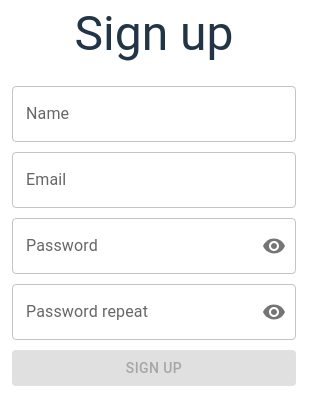
Test: Sign up page › Interactions › Displays spinner while API request in progress
The width and height of the screenshot is (332, 406).
In the field labelled "Name": (154, 114) [12,86,296,142], type "username"
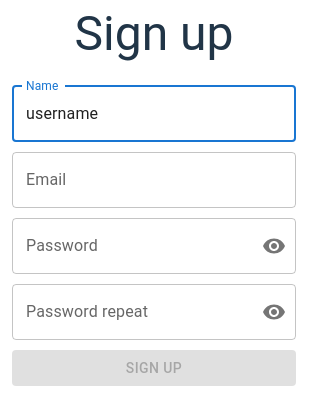
In the field labelled "Email": (154, 180) [12,152,296,208], type "test@email.com"
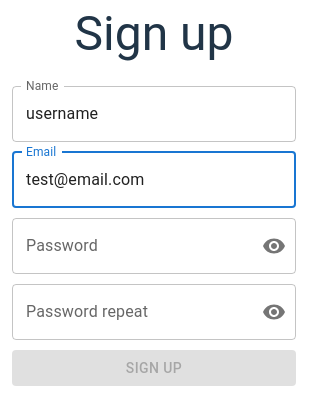
In the password field with placeholder "Enter you password": (129, 246) [12,218,246,274], type "password"
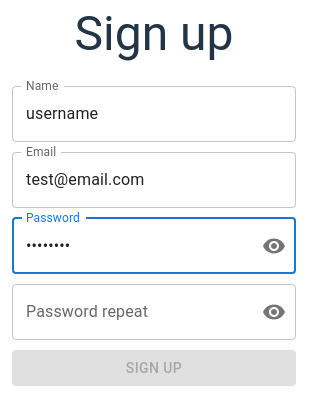
In the password field with placeholder "Repeat your password": (129, 312) [12,284,246,340], type "password"
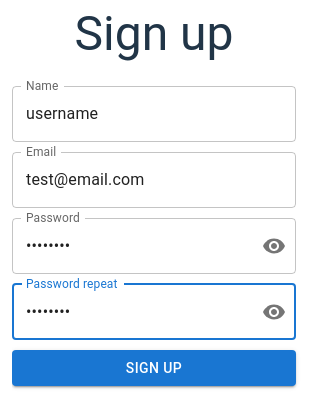
Click the button "Sign Up": (154, 368) [12,350,296,386]
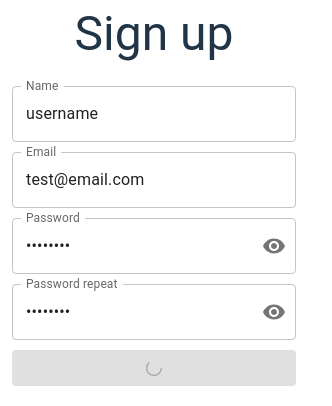
Now the progress indicator is shown, box [146,360,162,376]
